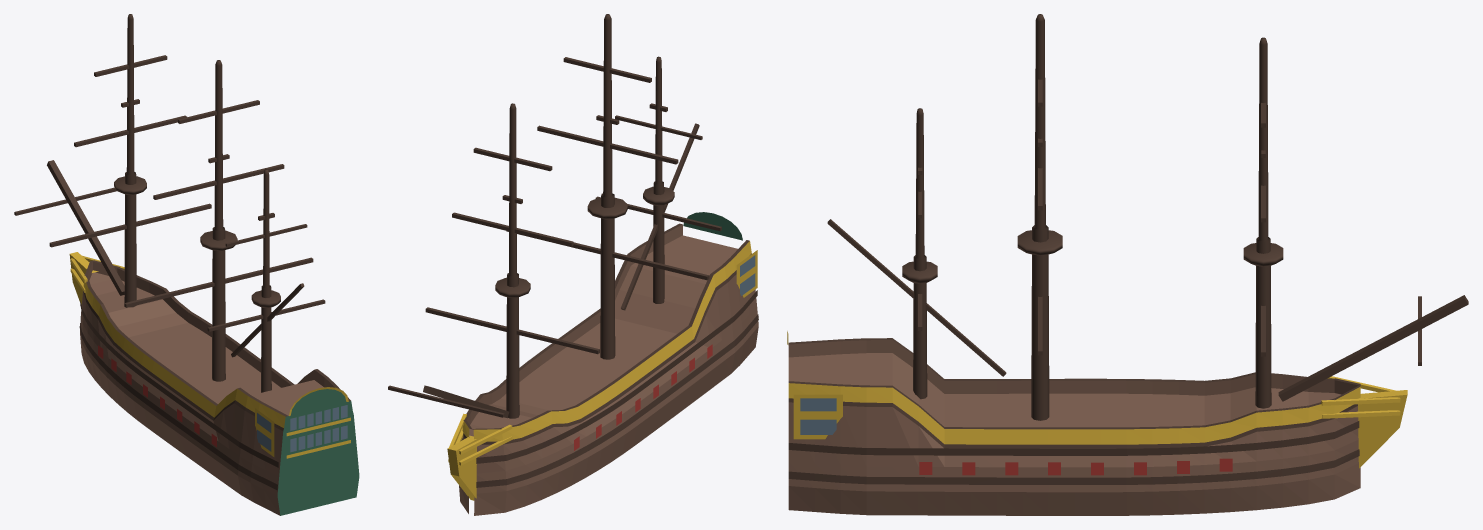
The model's file is amsterdam-ship-amsterdam.glb.
3 views of the same model, side by side, from view 1: azimuth 30°, elevation 25°; view 2: azimuth 150°, elevation 25°; view 3: azimuth 270°, elevation 25° (orthographic). The views are drawn at different scales.
Visible parts, largest first — view 1: Replica ship Amsterdam; view 2: Replica ship Amsterdam; view 3: Replica ship Amsterdam.
Part boxes in pixels (<box>): Replica ship Amsterdam: <box>14,14,359,515</box>; Replica ship Amsterdam: <box>388,14,758,515</box>; Replica ship Amsterdam: <box>787,14,1468,515</box>.
Bounding box in the file's own units: 21 × 40 × 52.36.
